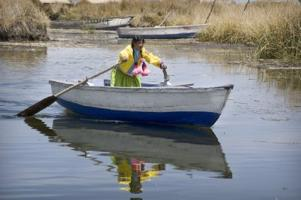person: (111, 36, 168, 88)
